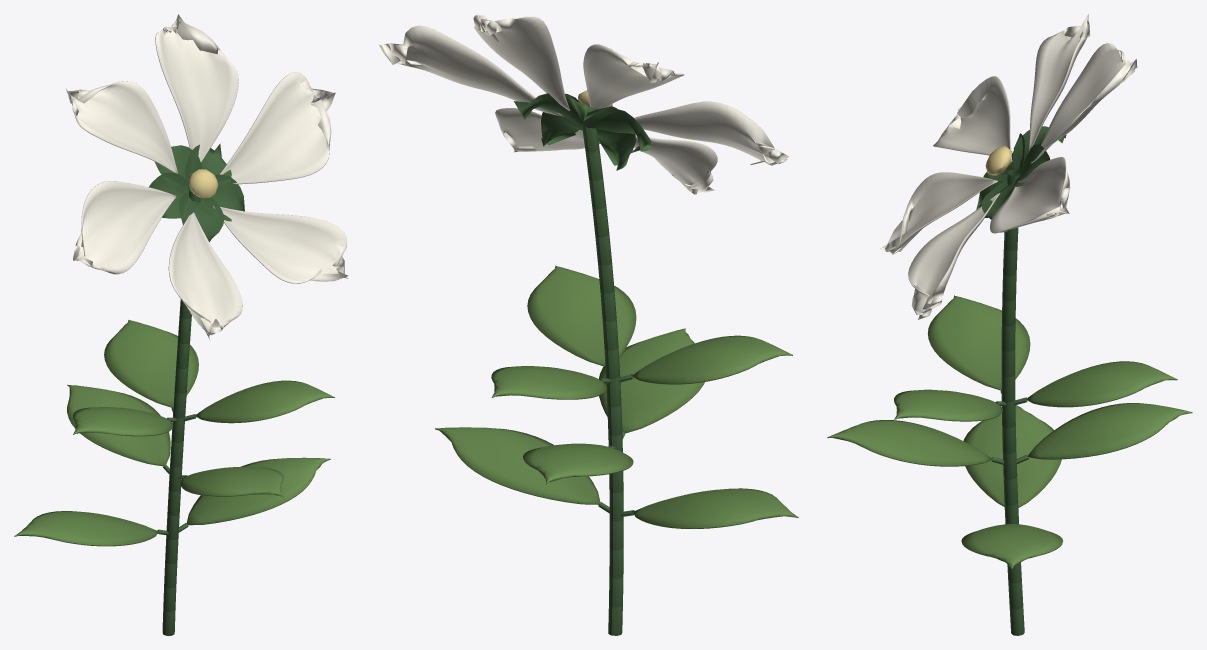
File: gardenia-common-v2.glb
The picture shows the model from 3 angles, left to right: view 1: azimuth 30°, elevation 25°; view 2: azimuth 150°, elevation 25°; view 3: azimuth 270°, elevation 25°; orthographic projection. The views are drawn at different scales.
Parts seen in each view (by area): view 1: gardenia-common-v2-petal, gardenia-common-v2-leaf, gardenia-common-v2-stem, gardenia-common-v2-center; view 2: gardenia-common-v2-leaf, gardenia-common-v2-petal, gardenia-common-v2-stem; view 3: gardenia-common-v2-leaf, gardenia-common-v2-petal, gardenia-common-v2-stem, gardenia-common-v2-center.
Boxes of the visible parts, x1,y1,x2,y2 form: gardenia-common-v2-petal: [66, 14, 348, 341]; gardenia-common-v2-leaf: [14, 320, 334, 546]; gardenia-common-v2-stem: [149, 143, 244, 635]; gardenia-common-v2-center: [188, 169, 218, 197]; gardenia-common-v2-leaf: [435, 266, 798, 528]; gardenia-common-v2-petal: [378, 14, 788, 195]; gardenia-common-v2-stem: [514, 93, 652, 635]; gardenia-common-v2-leaf: [827, 295, 1192, 568]; gardenia-common-v2-petal: [879, 14, 1137, 319]; gardenia-common-v2-stem: [976, 126, 1066, 635]; gardenia-common-v2-center: [985, 146, 1012, 175].
Bounding box in the file's own units: 1.13 × 1.76 × 0.9585.
